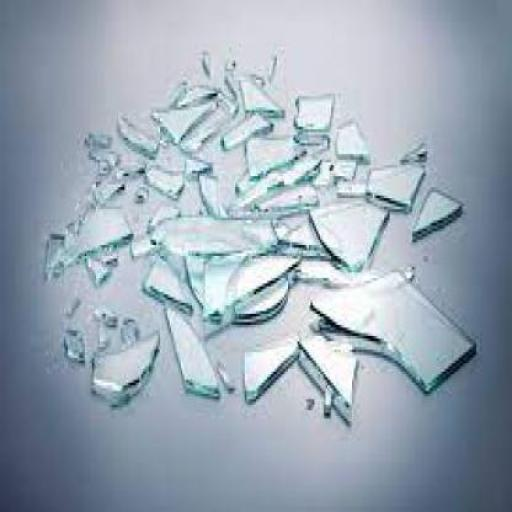glass: (308, 264, 474, 394), (144, 206, 278, 284), (180, 242, 298, 317), (199, 248, 299, 311), (158, 292, 216, 396), (294, 330, 360, 416), (311, 190, 386, 264), (88, 328, 158, 402), (228, 154, 318, 207), (294, 251, 414, 286), (75, 201, 135, 259), (242, 338, 296, 399), (363, 159, 423, 210), (267, 201, 327, 251), (408, 184, 462, 234), (142, 246, 184, 310), (150, 101, 217, 141), (241, 134, 305, 174), (238, 63, 280, 119), (176, 110, 226, 155), (254, 182, 318, 214), (116, 107, 154, 158), (151, 138, 207, 170), (220, 108, 271, 143), (292, 87, 334, 127), (288, 124, 330, 157), (334, 118, 366, 160), (168, 77, 216, 105), (147, 160, 183, 196), (107, 152, 147, 184), (312, 154, 354, 182), (126, 214, 152, 256), (199, 170, 223, 215), (41, 225, 66, 267), (88, 170, 122, 199), (60, 322, 85, 361), (64, 192, 94, 224), (217, 88, 241, 124), (81, 255, 109, 284), (220, 58, 238, 102), (216, 357, 234, 397), (89, 143, 113, 173), (400, 138, 428, 162), (80, 126, 112, 144), (94, 303, 119, 325), (322, 380, 333, 422), (199, 46, 213, 75), (64, 290, 81, 312), (94, 322, 105, 355), (100, 245, 120, 262), (118, 314, 132, 338), (264, 49, 274, 78), (136, 190, 146, 201)
